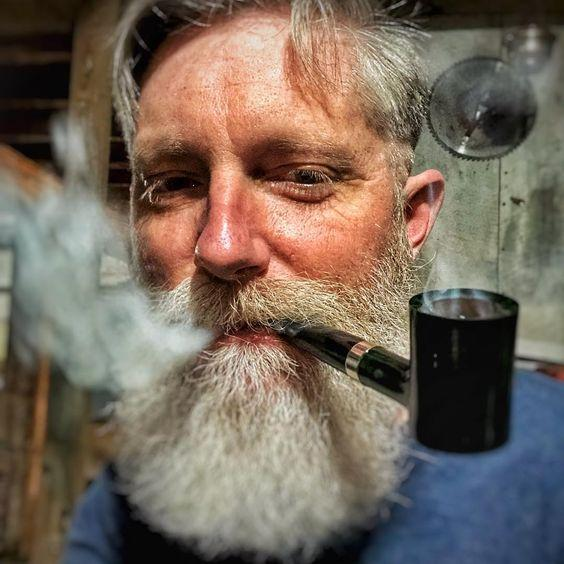trubka: (275, 289, 518, 453)
